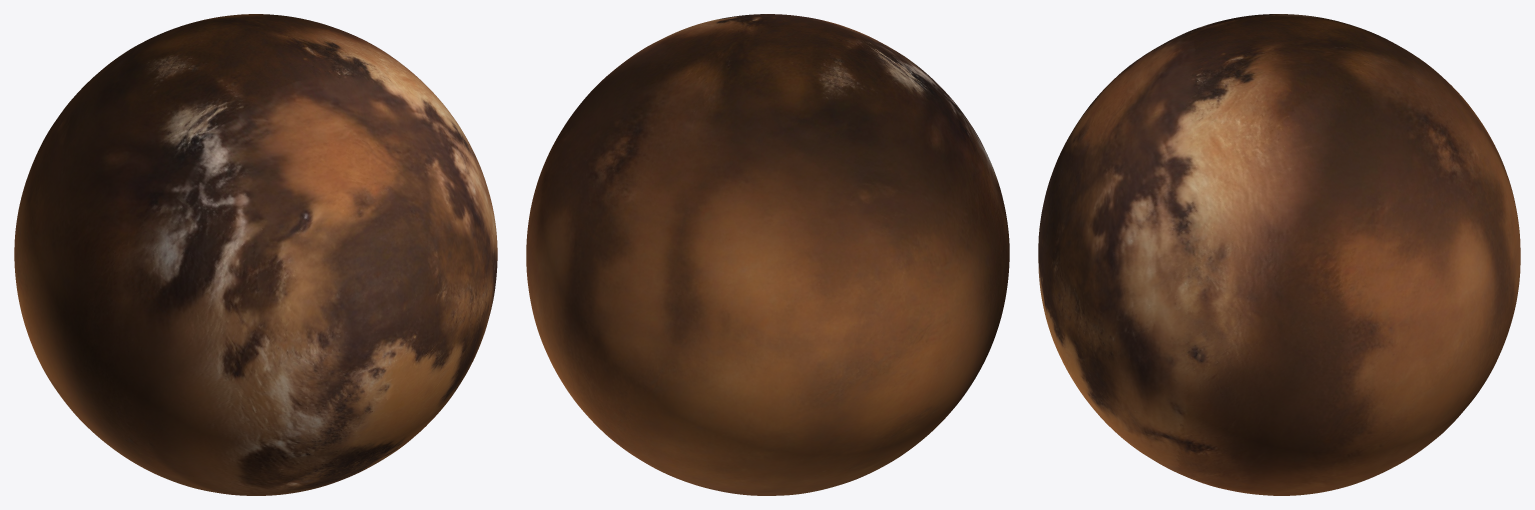
Rendered from KMT_2020_BLG_0414L_b_0920003534.glb.
3 views of the same model, side by side, from view 1: azimuth 30°, elevation 25°; view 2: azimuth 150°, elevation 25°; view 3: azimuth 270°, elevation 25° (orthographic).
Size of the model in its own units: 2 by 2 by 2.
1 material, 1 textured.
